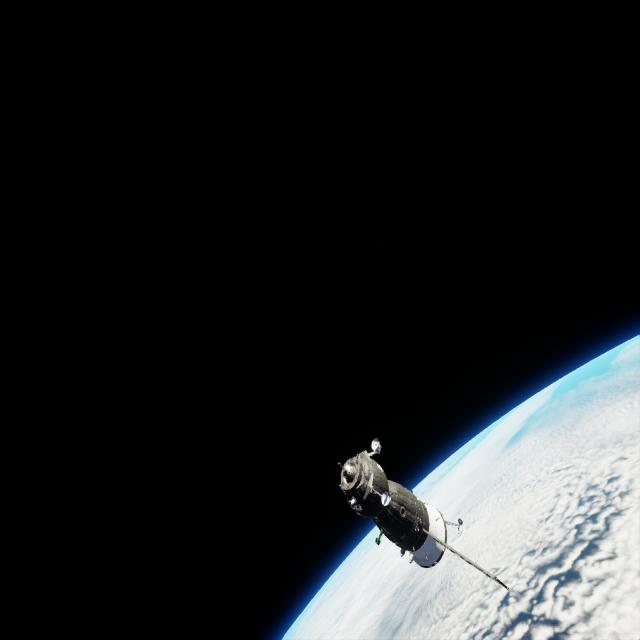Satellites revolving around earth: (280, 333, 638, 638)
